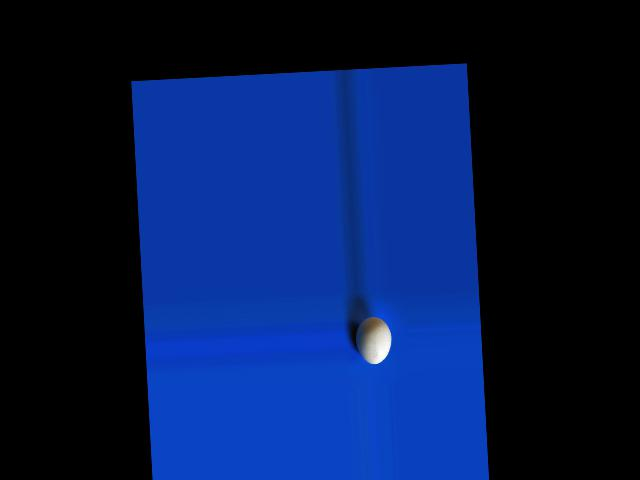egg: (354, 315, 392, 365)
